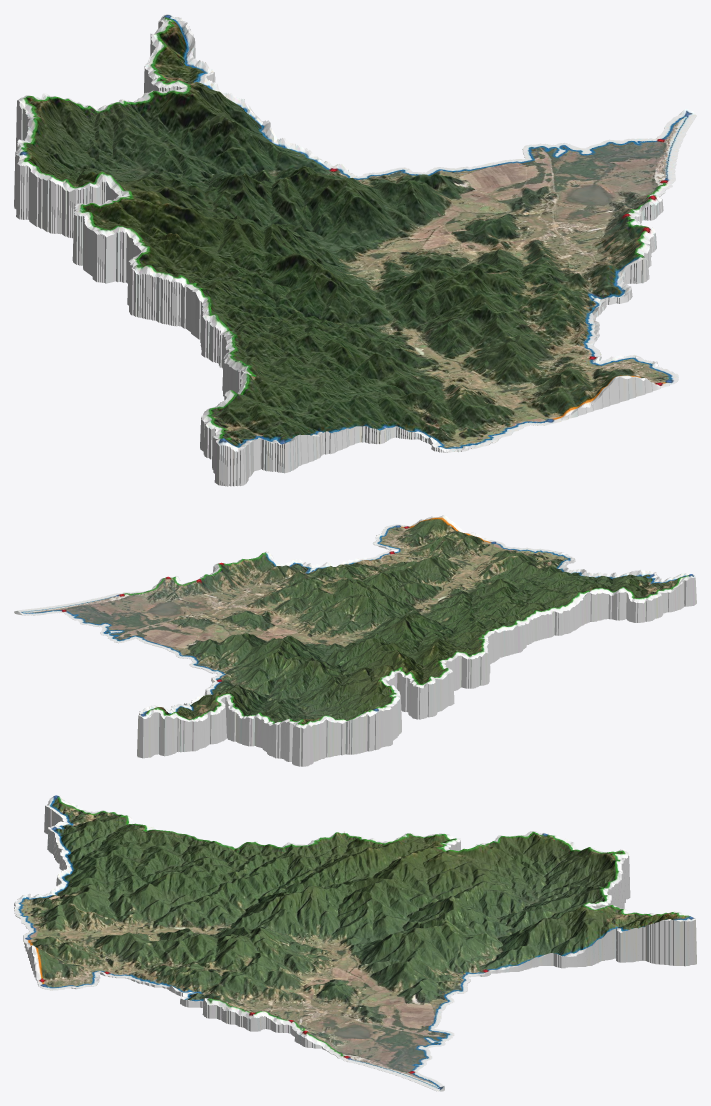
The picture shows the model from 3 angles, top to bottom: view 1: azimuth 30°, elevation 25°; view 2: azimuth 150°, elevation 25°; view 3: azimuth 270°, elevation 25°; orthographic projection. The views are drawn at different scales.
Size of the model in its own units: 0.9991 by 0.0829 by 1.08.
1 material, 1 textured.
